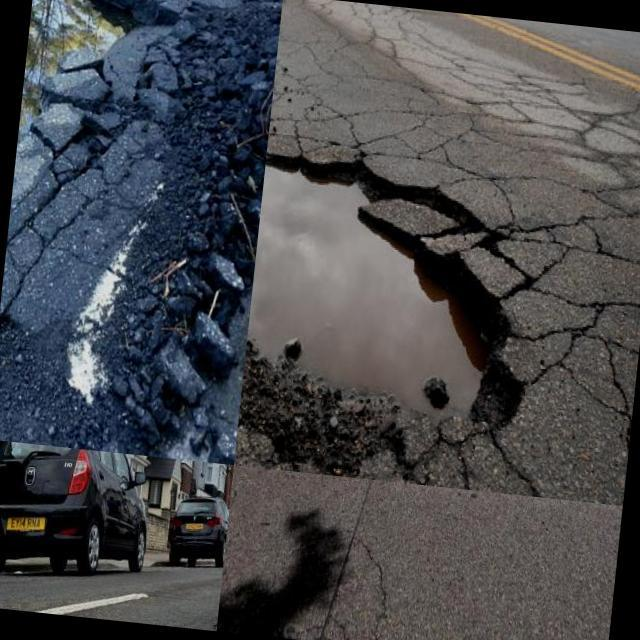Pothole: (241, 154, 524, 444)
